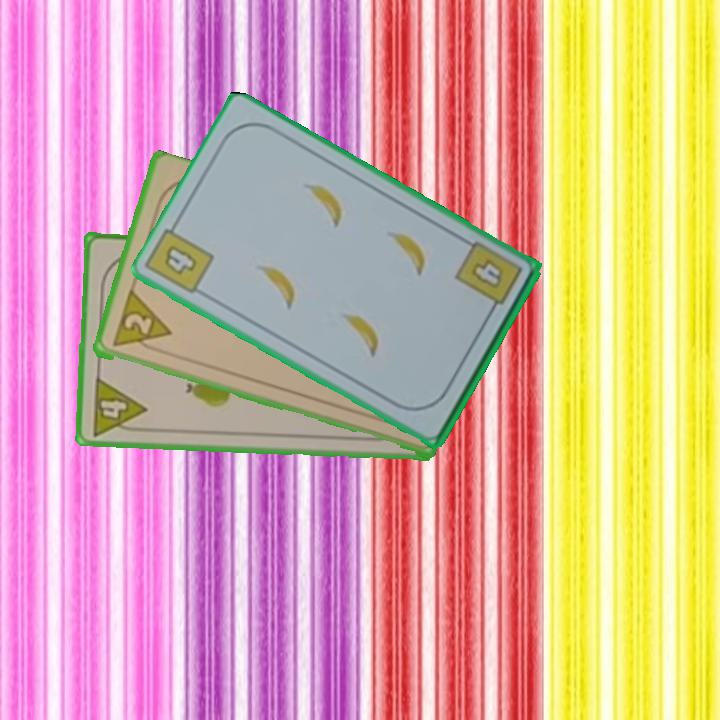2p: (108, 289, 174, 355)
4b: (451, 237, 525, 319), (160, 241, 200, 278)
4p: (88, 373, 149, 439)
